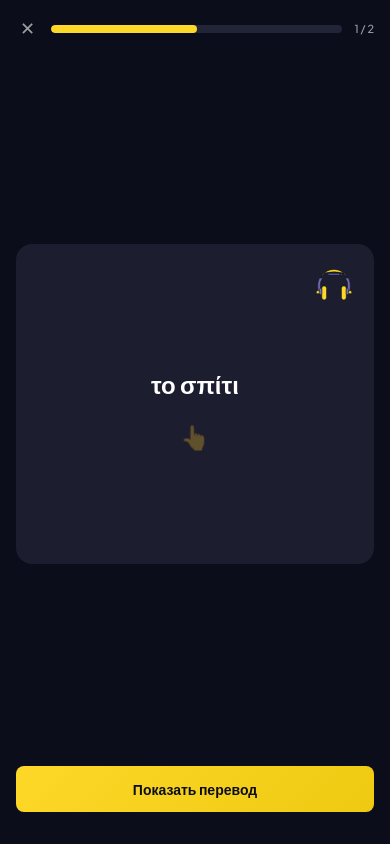
Test: FlashcardScreen › advances to next card after rating
Expected: the text "το σπίτι" is shown, [151,370,239,398]
Step 1. Click the button "Показать перевод" → [195, 789], box [16,766,374,812]
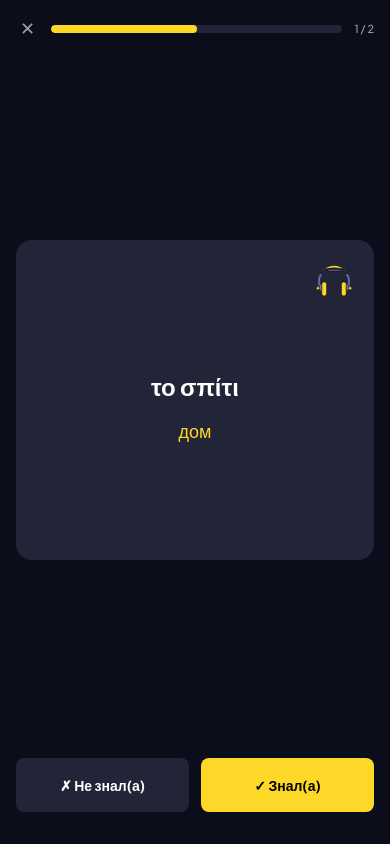
Step 2. Click the button "✓ Знал(а)" → [288, 785], box [201,758,374,812]
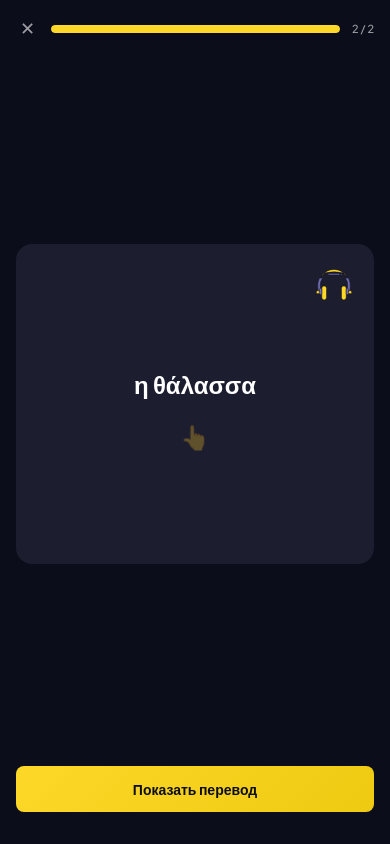
Now the text "η θάλασσα" is shown, box [134,370,256,398]
